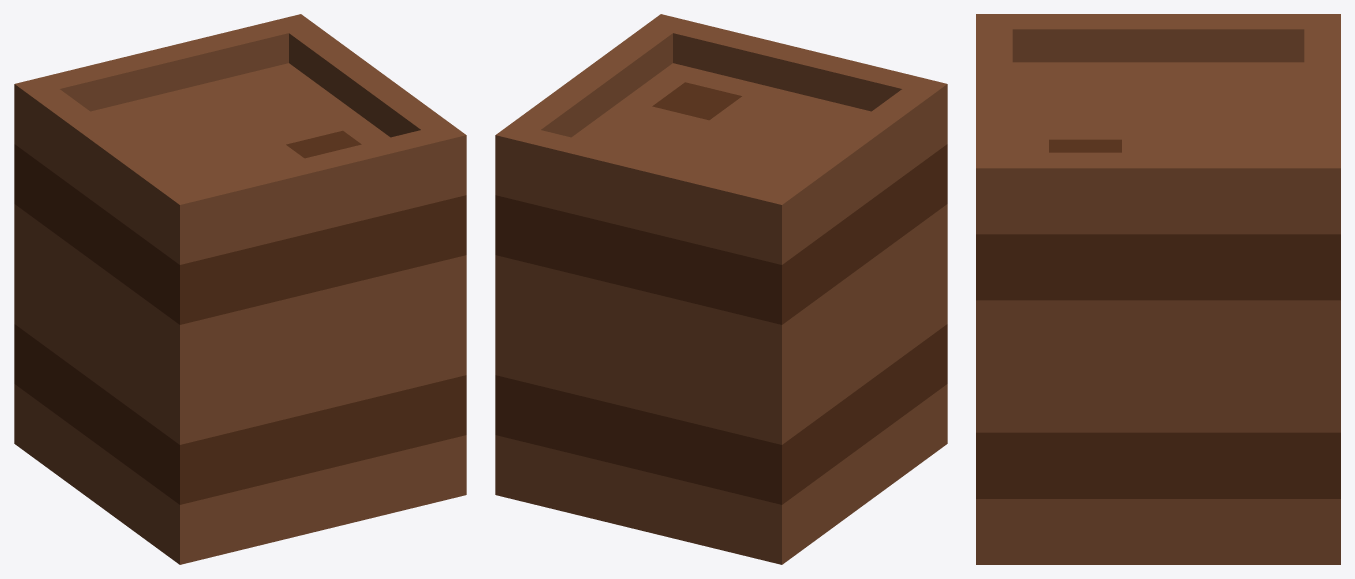
Rendered from barile fbx.fbx.
3 views of the same model, side by side, from view 1: azimuth 30°, elevation 25°; view 2: azimuth 150°, elevation 25°; view 3: azimuth 270°, elevation 25° (orthographic). The views are drawn at different scales.
Parts seen in each view (by area): view 1: barile; view 2: barile; view 3: barile.
Part boxes in pixels (<box>): barile: <box>14,14,466,564</box>; barile: <box>495,14,947,564</box>; barile: <box>976,14,1340,564</box>.
Size of the model in its own units: 100 by 120 by 100.
